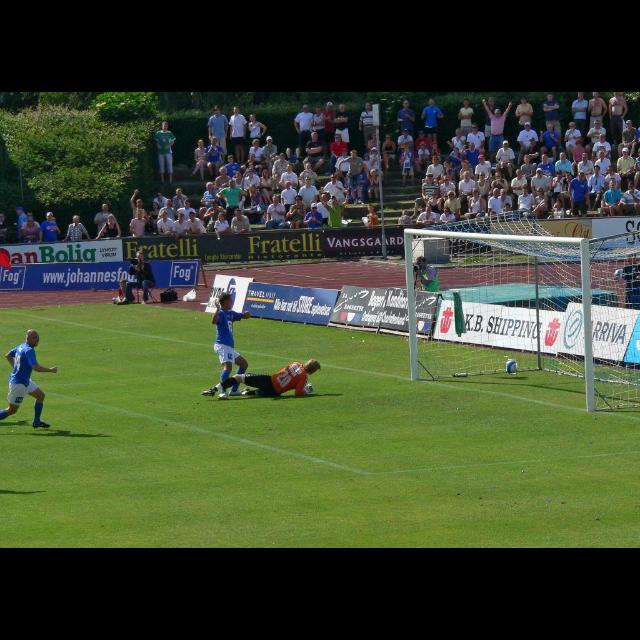Football: (507, 360, 517, 374)
